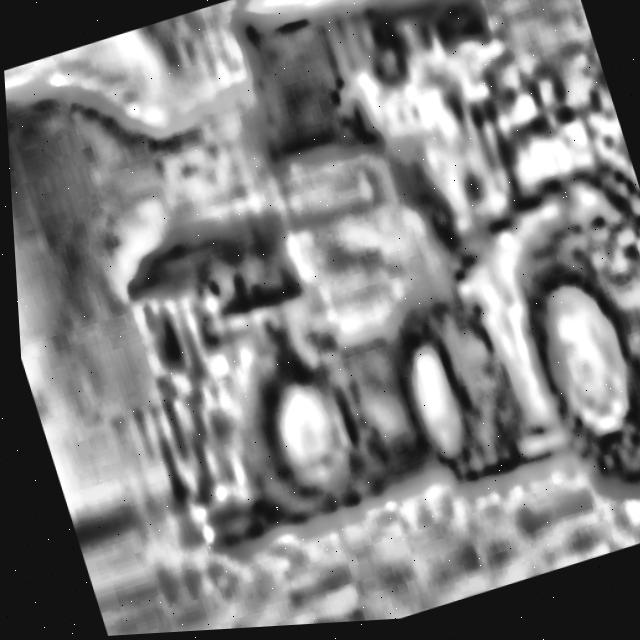dump_truck: (79, 113, 519, 571)
